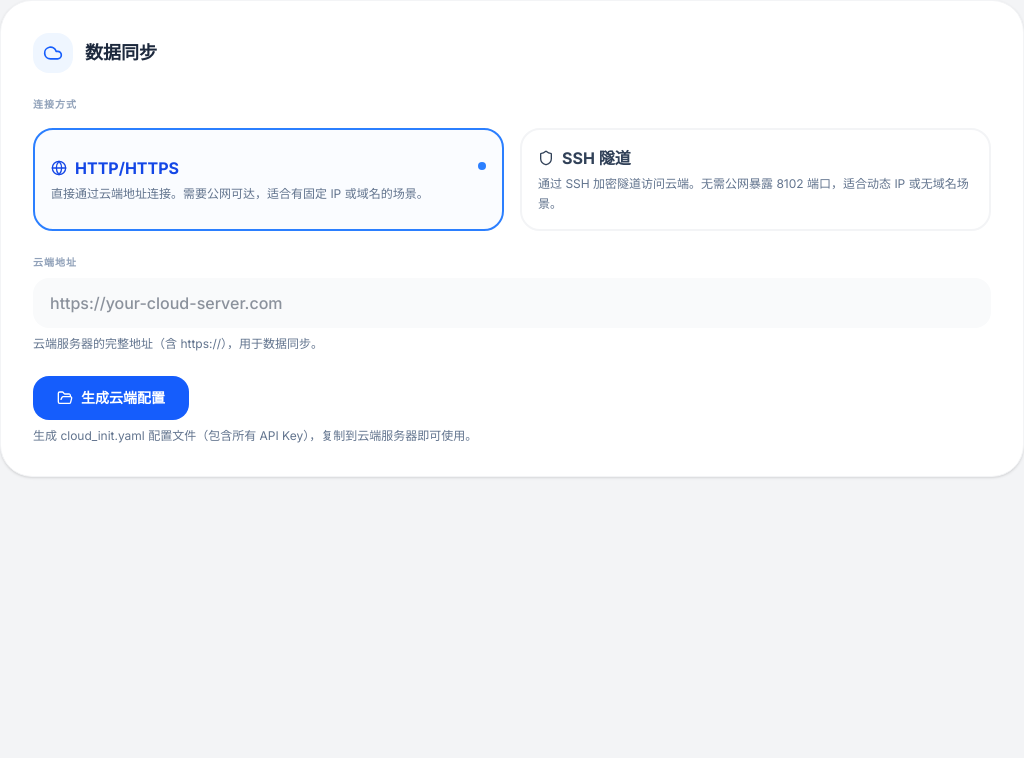
SyncConfigSection › Seam 10: 测试连接结果展示 › should display success result when test connection succeeds
Click the button "SSH 隧道 通过 SSH 加密隧道访问云端。无需公网暴露 8102 端口，适合动态 IP 或无域名场景。".
click(756, 180)  # box [520,128,991,231]
(page scrolled)
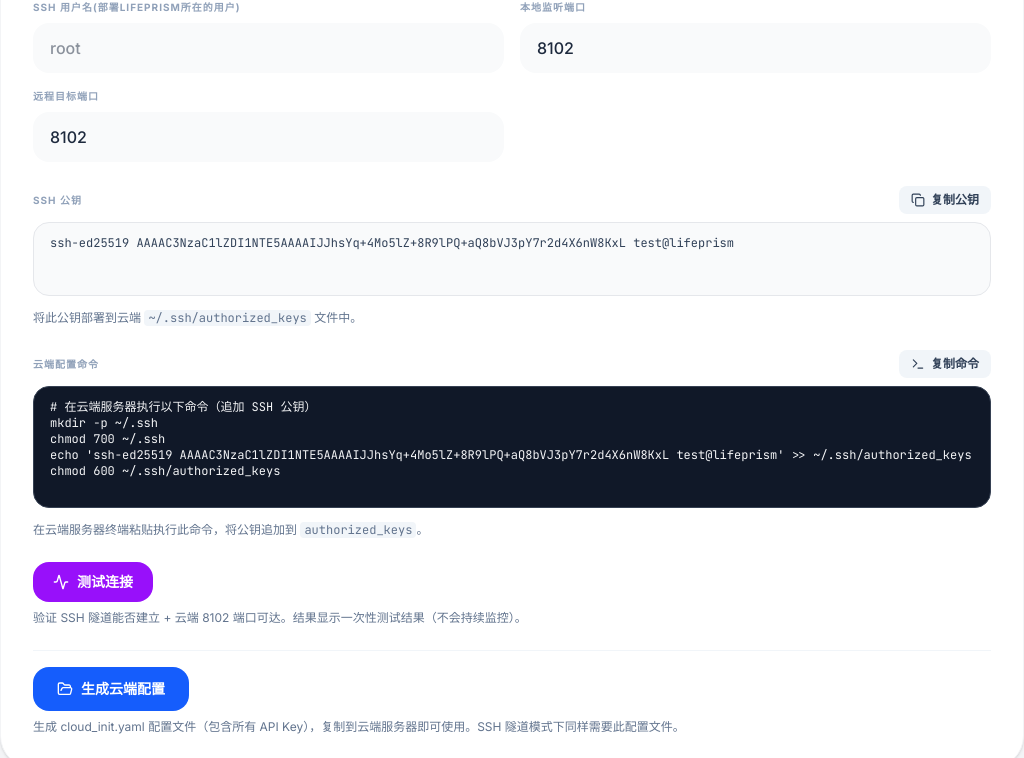
Now the button "测试连接" is shown
Click the button "测试连接".
click(93, 582)  # box [33,562,153,602]
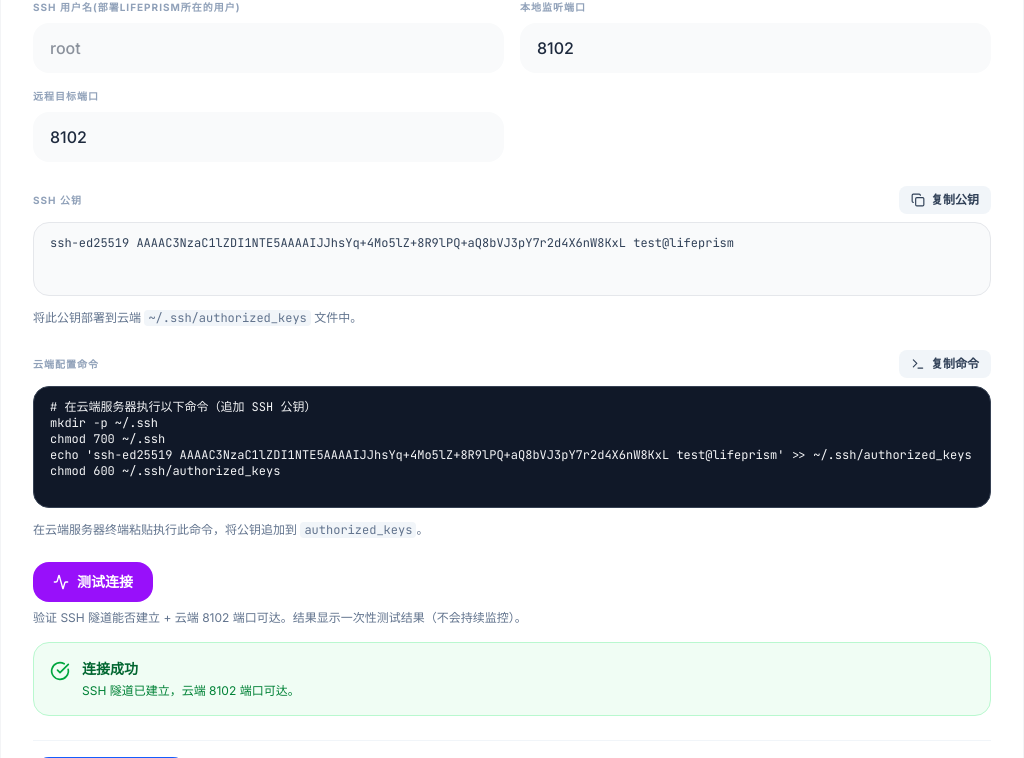
Now the text "连接成功" is shown, box [82,660,138,677]
